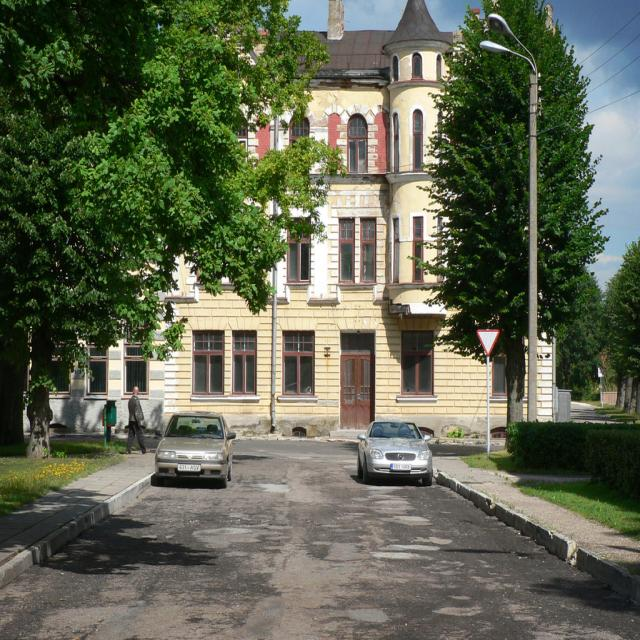car: (154, 409, 235, 487), (356, 419, 431, 485)
